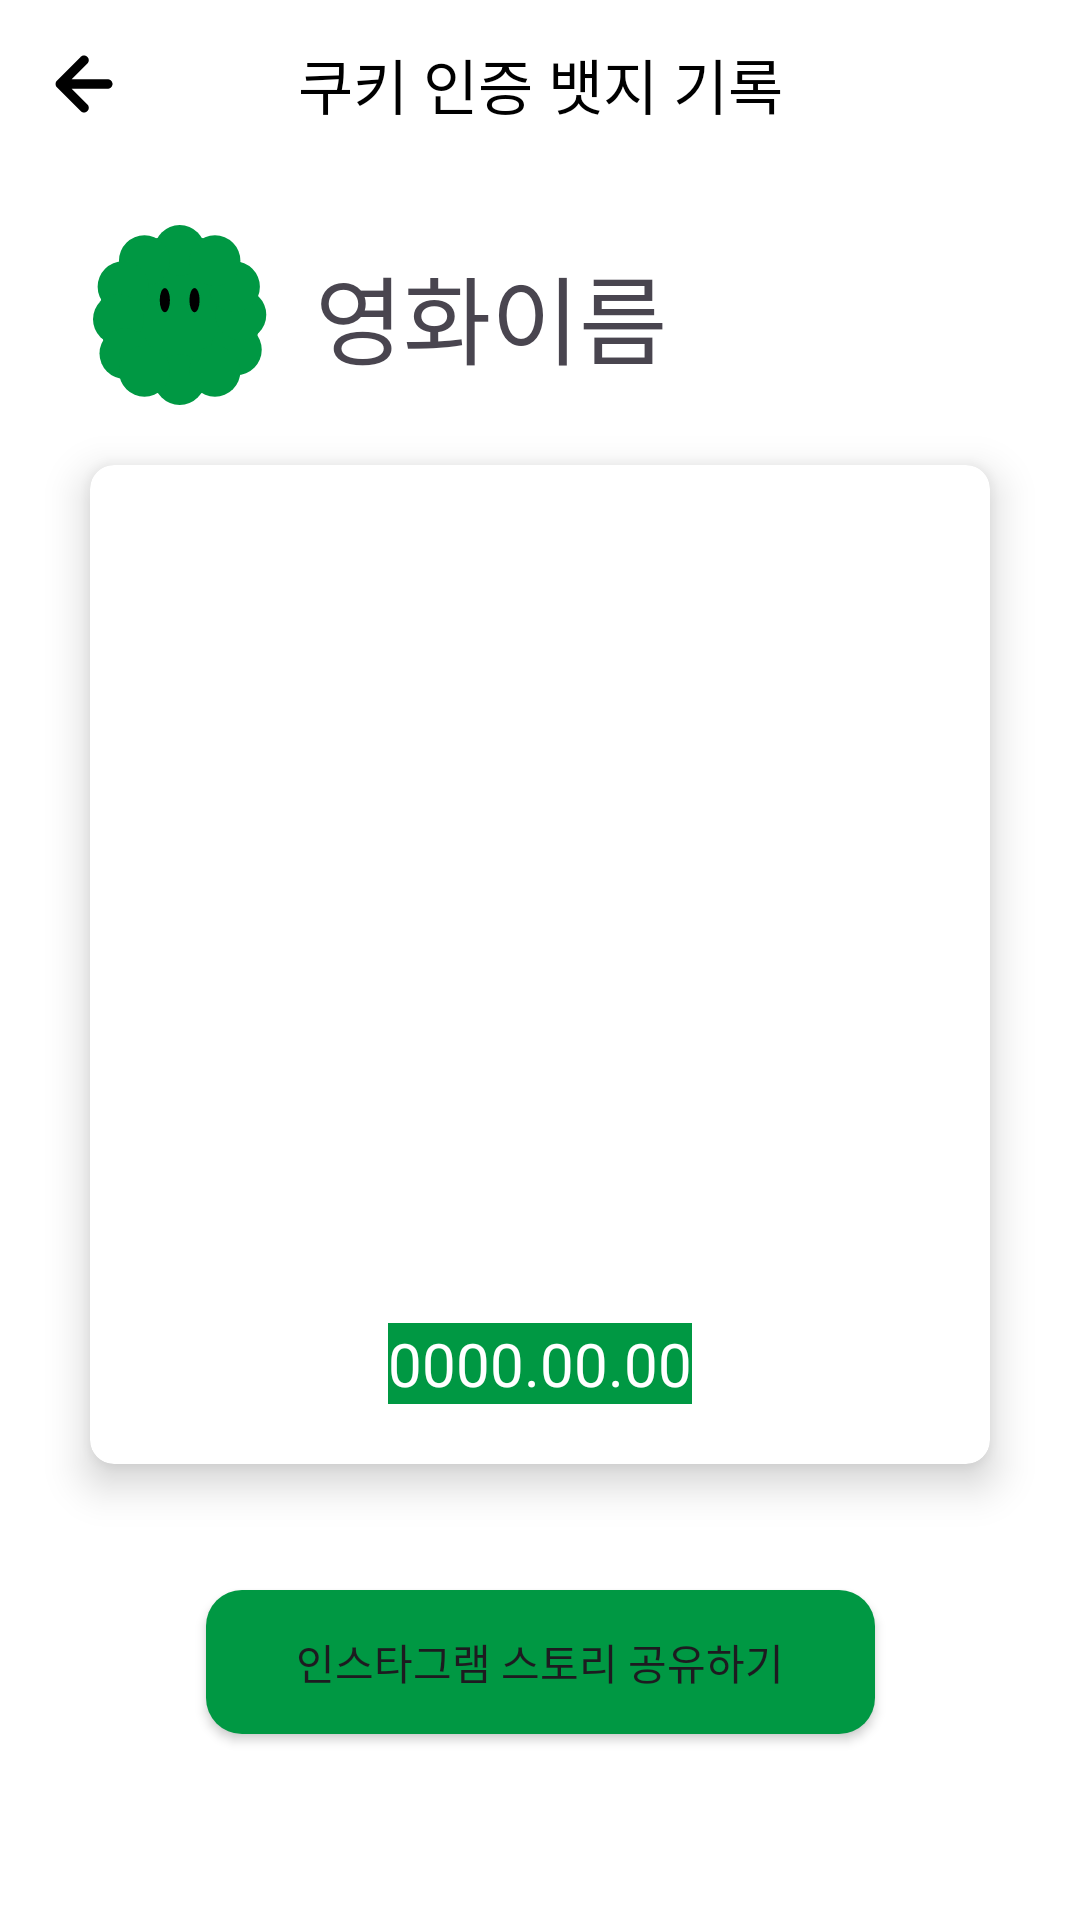

Screen size 1080*1920. Icon name, then its box in pixels as box=[x1, y1, x2, y2]:
cookie time: box=[93, 225, 267, 405]
